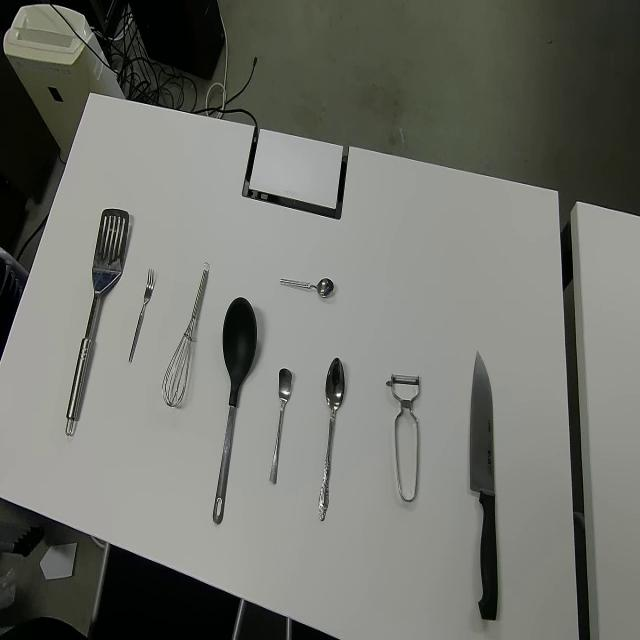Desert-Spoon: (319, 356, 345, 522)
Dinner-Fork: (128, 266, 154, 366)
Kitchen-Knife: (468, 347, 499, 622)
Peeler: (386, 372, 420, 503)
Serving-Spoon: (66, 208, 130, 442), (212, 294, 259, 526)
Tea-Spoon: (269, 365, 293, 486), (280, 274, 334, 298)
Whisk: (162, 260, 210, 408)
